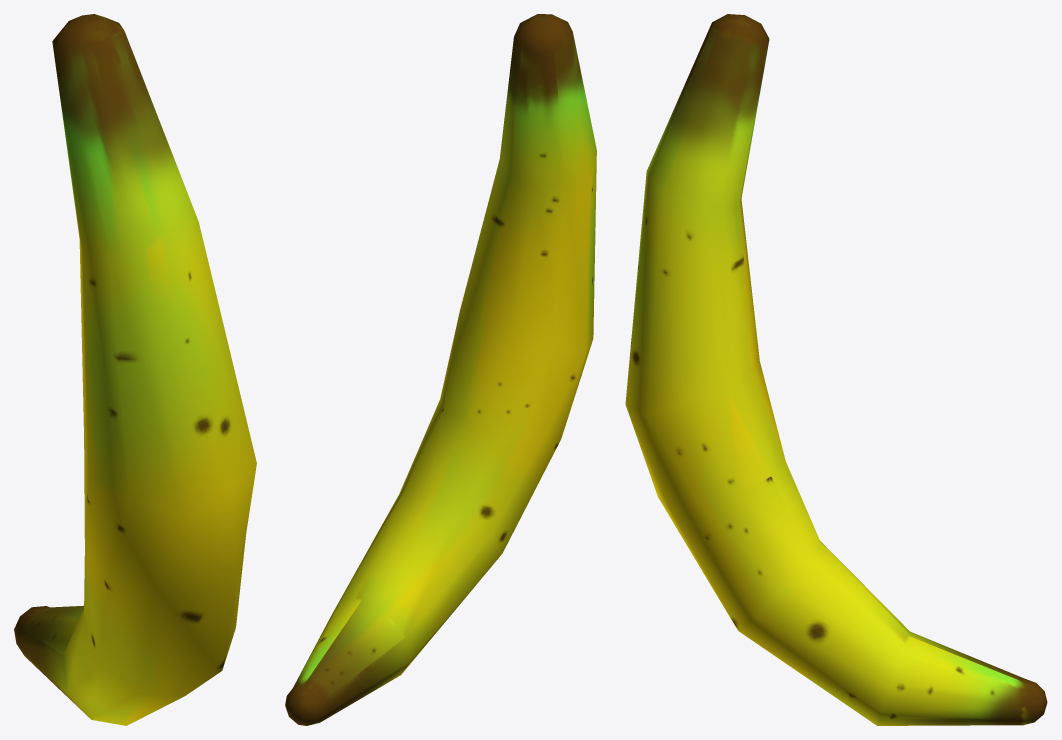
File: PFRfoodBanana.fbx
The picture shows the model from 3 angles, left to right: view 1: azimuth 30°, elevation 25°; view 2: azimuth 150°, elevation 25°; view 3: azimuth 270°, elevation 25°; orthographic projection. The views are drawn at different scales.
Visible parts, largest first — view 1: Icosphere; view 2: Icosphere; view 3: Icosphere.
Boxes of the visible parts, left/top/right/bottom form: Icosphere: left=14, top=14, right=256, bottom=725; Icosphere: left=285, top=14, right=596, bottom=725; Icosphere: left=625, top=14, right=1047, bottom=725.
Bounding box in the file's own units: 1.22 × 4.44 × 2.59.
